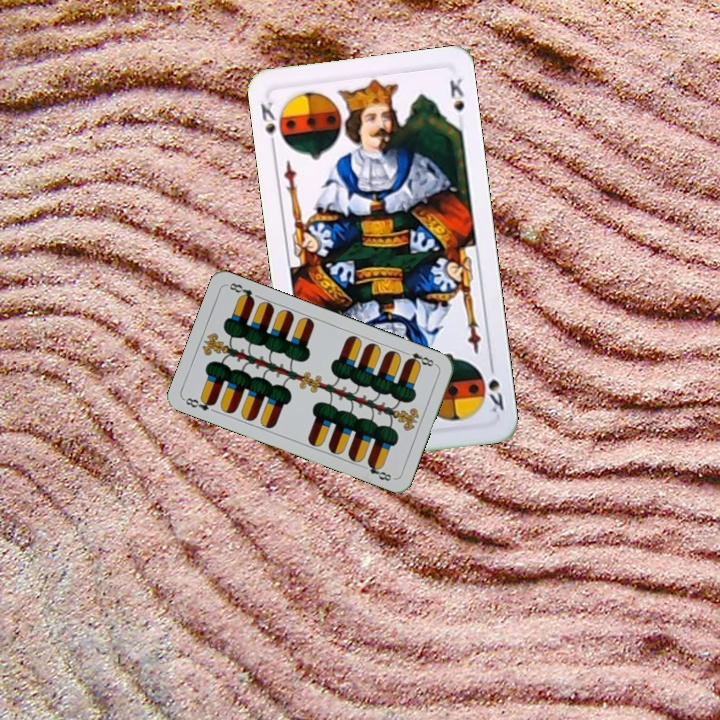E8: (400, 347, 439, 369), (181, 393, 218, 414)
SK: (483, 358, 507, 415), (257, 98, 279, 152)
